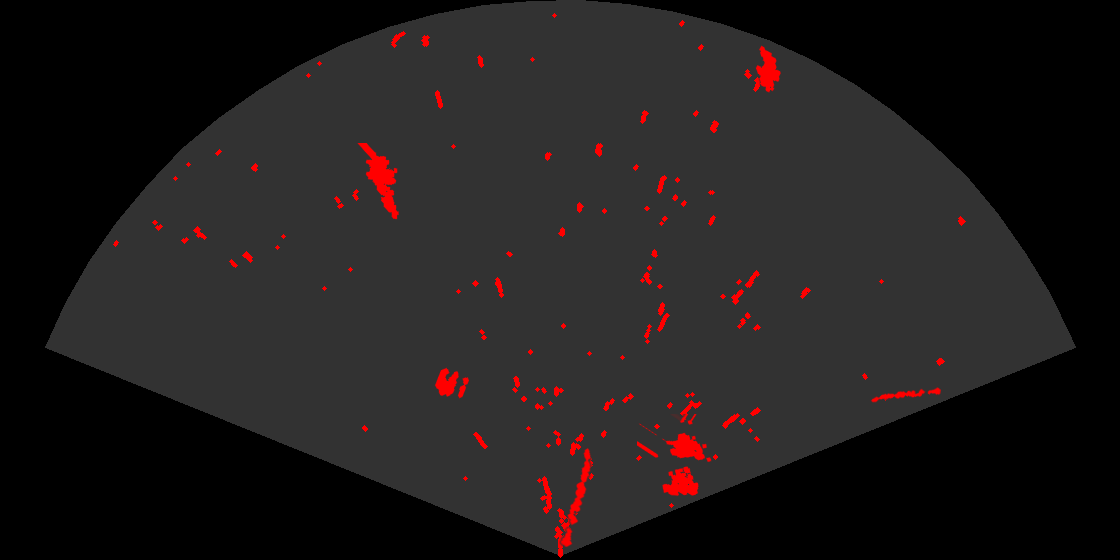AUV: (754, 44, 782, 94)
ball: (433, 366, 471, 400)
cage: (637, 414, 713, 498)
chain: (559, 447, 593, 549), (869, 386, 941, 404)
frogman: (356, 143, 400, 221)
